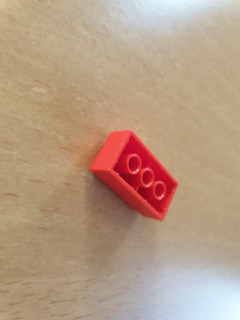2x4 red: (89, 129, 181, 224)
